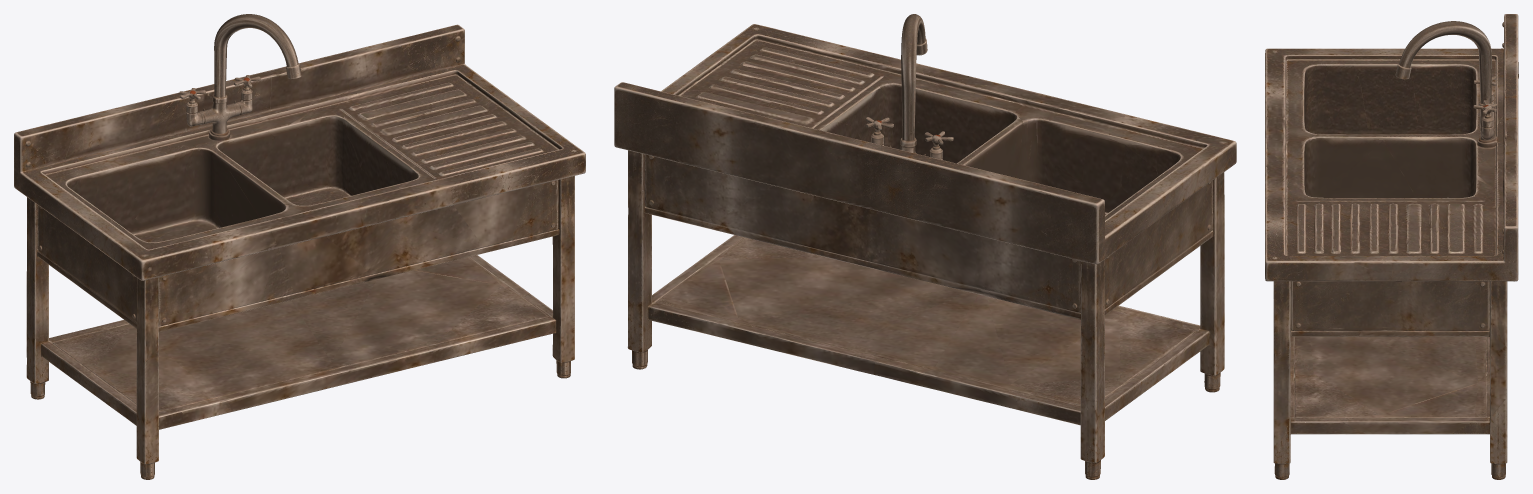
The model's file is k_sink.glb.
The picture shows the model from 3 angles, left to right: view 1: azimuth 30°, elevation 25°; view 2: azimuth 150°, elevation 25°; view 3: azimuth 270°, elevation 25°; orthographic projection. The views are drawn at different scales.
Size of the model in its own units: 1.9 by 1.44 by 0.9521.
1 material, 1 textured.
